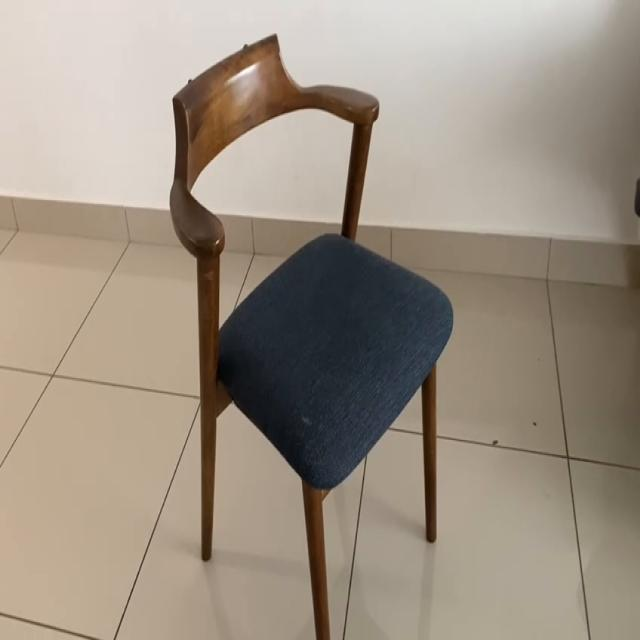Chair: (150, 36, 458, 587)
